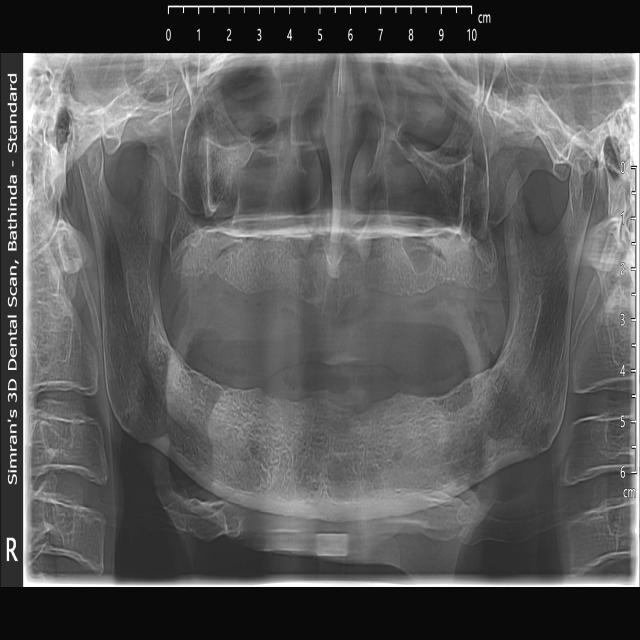Missing teeth: (221, 255, 453, 300), (220, 372, 458, 412)
